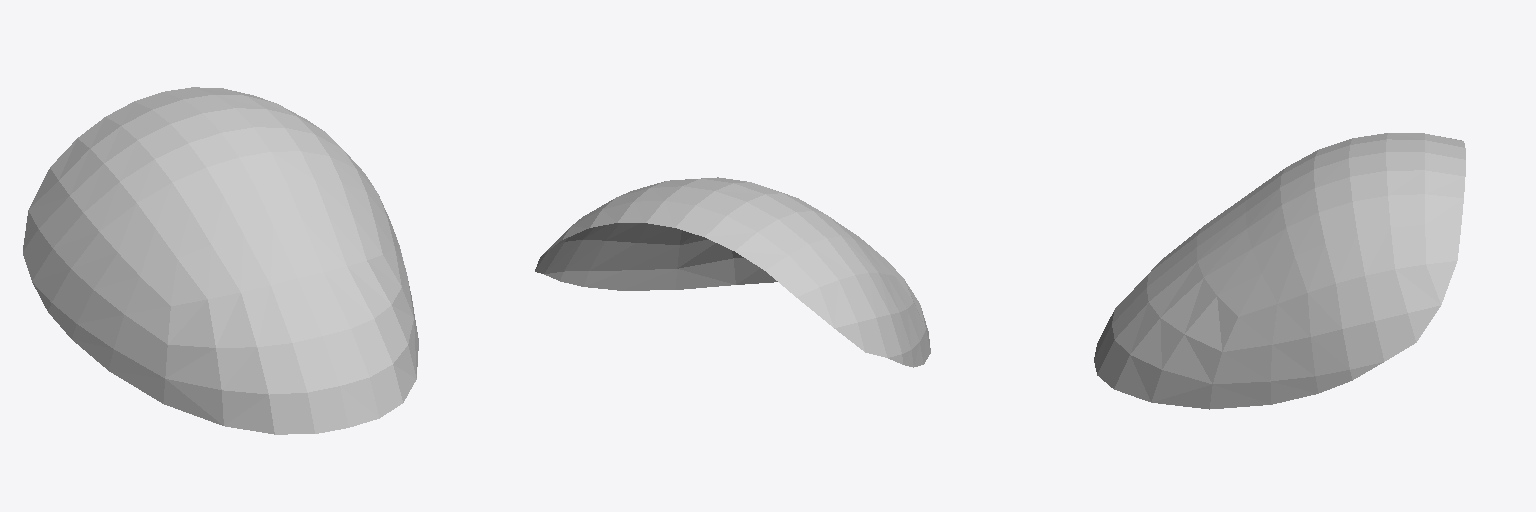
Rendered from placeholder_ship_pear_glass.obj.
The picture shows the model from 3 angles: view 1: azimuth 30°, elevation 25°; view 2: azimuth 150°, elevation 25°; view 3: azimuth 270°, elevation 25°; orthographic projection.
Parts seen in each view (by area): view 1: ship_Pear_Glass; view 2: ship_Pear_Glass; view 3: ship_Pear_Glass.
Part boxes in pixels (left/top/right/bottom): ship_Pear_Glass: left=23, top=87, right=418, bottom=434; ship_Pear_Glass: left=535, top=177, right=930, bottom=367; ship_Pear_Glass: left=1094, top=133, right=1465, bottom=409.
Size of the model in its own units: 1.5 by 0.8644 by 1.4.